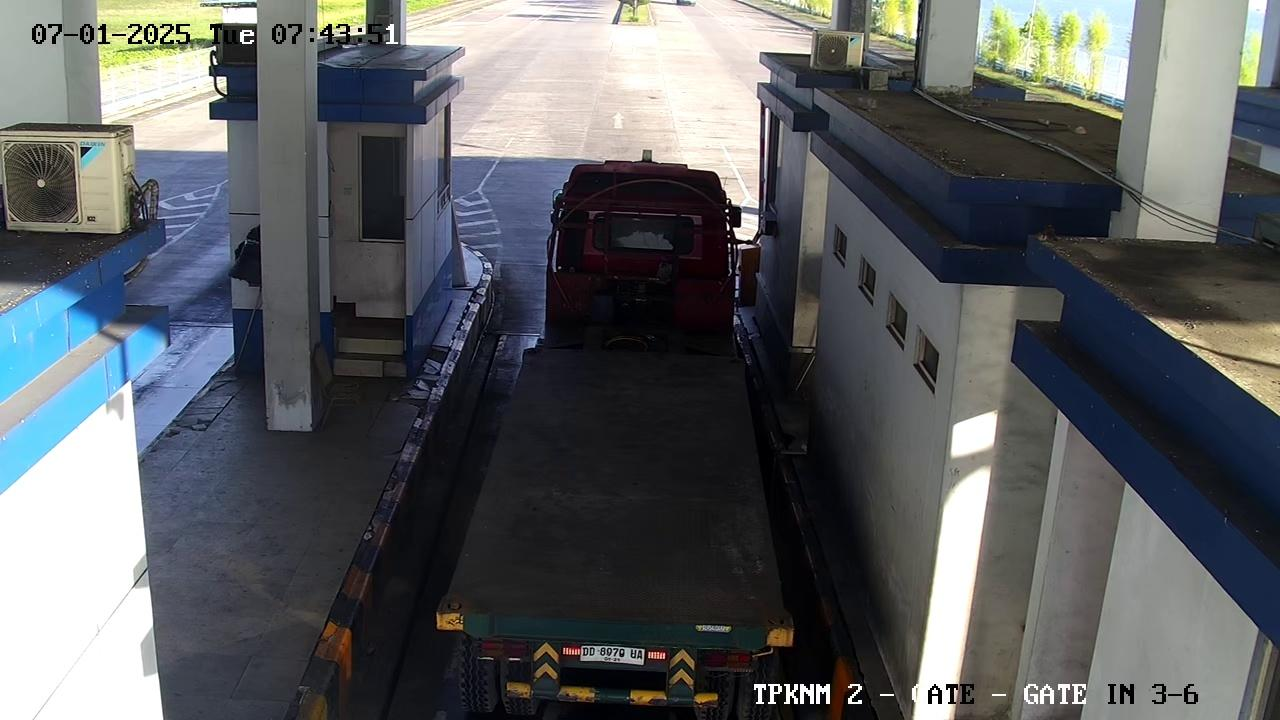plate_number: (565, 641, 658, 675)
